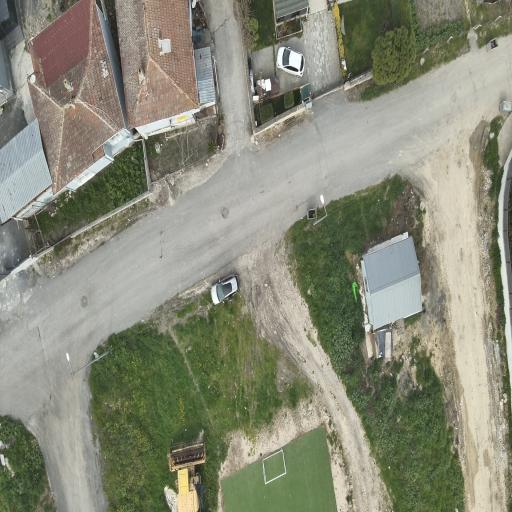car: (211, 274, 239, 304), (277, 47, 304, 77)
harvester: (170, 441, 205, 511)
